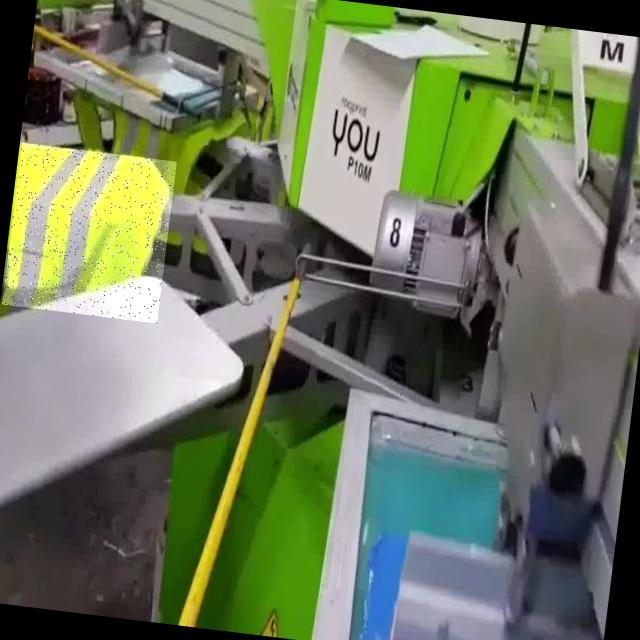Safety Vest: (2, 142, 177, 323)
